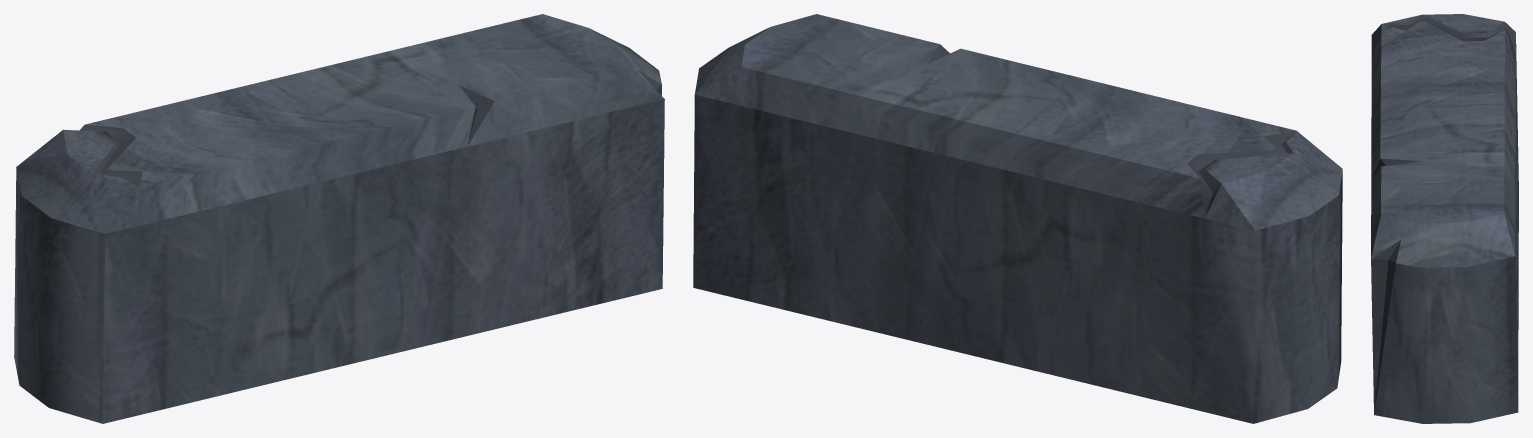
The model's file is StandAlone03.glb.
3 renders of one model, left to right at view 1: azimuth 30°, elevation 25°; view 2: azimuth 150°, elevation 25°; view 3: azimuth 270°, elevation 25°, orthographic. The views are drawn at different scales.
Visible parts, largest first — view 1: StandAlone03; view 2: StandAlone03; view 3: StandAlone03.
Part boxes in pixels (x1=…): StandAlone03: x1=14, y1=14, x2=664, y2=423; StandAlone03: x1=693, y1=14, x2=1342, y2=423; StandAlone03: x1=1371, y1=14, x2=1518, y2=423.
Size of what is drawn, in the model's own units: 10.22 by 3.65 by 2.63.
Materials: 1 (1 with a texture image).
